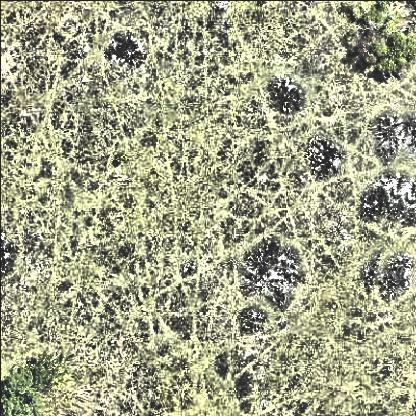tree-top: (342, 6, 415, 76), (2, 354, 74, 416)
